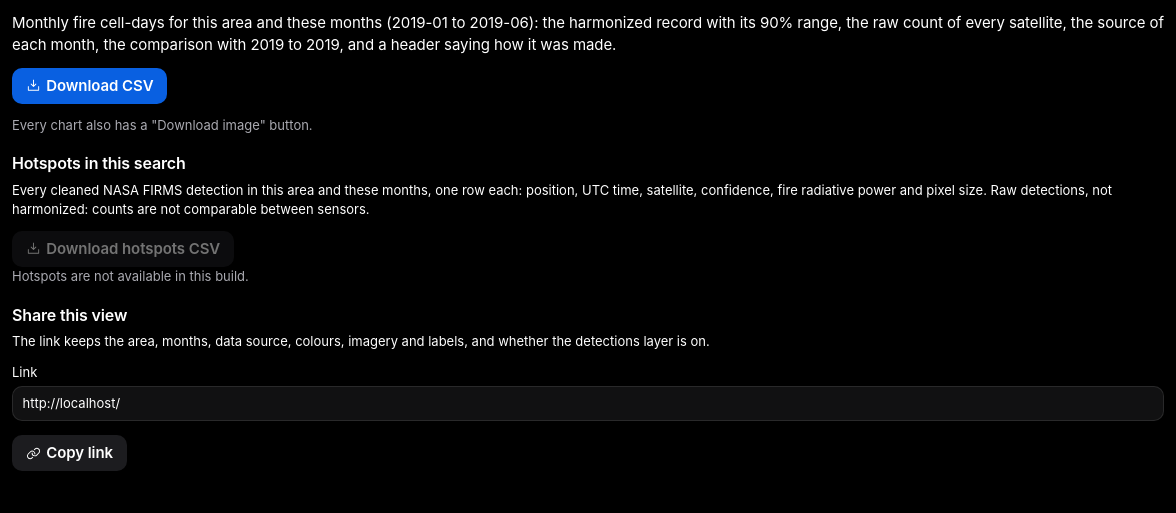
Test: ExportButton copy link › shows a message and a selected read-only field when the clipboard rejects
Click the button "Copy link".
click(69, 453)  # box [12, 435, 127, 471]
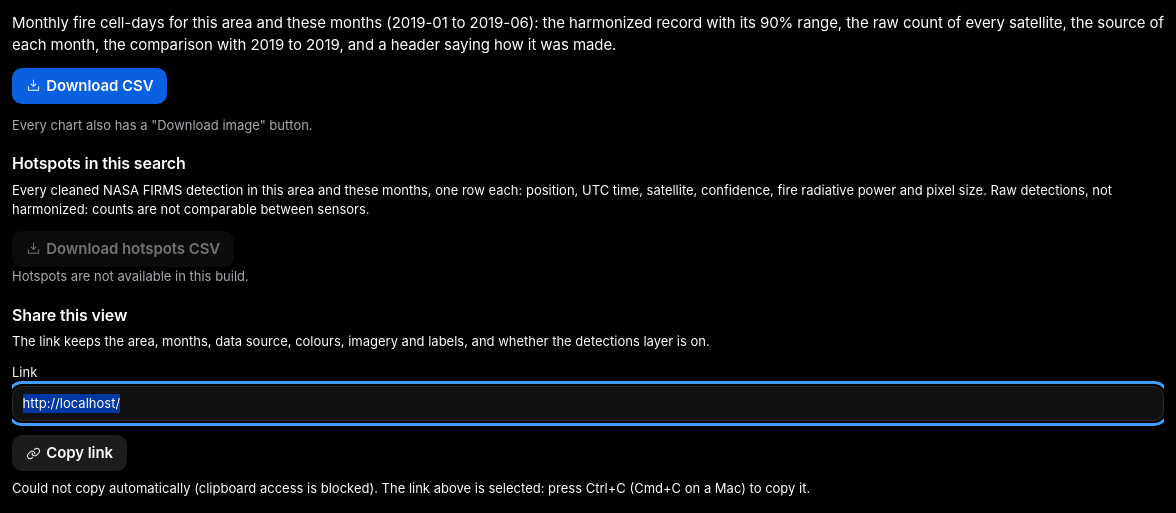
Now the message shows "Could not copy", box [12, 480, 810, 496]
